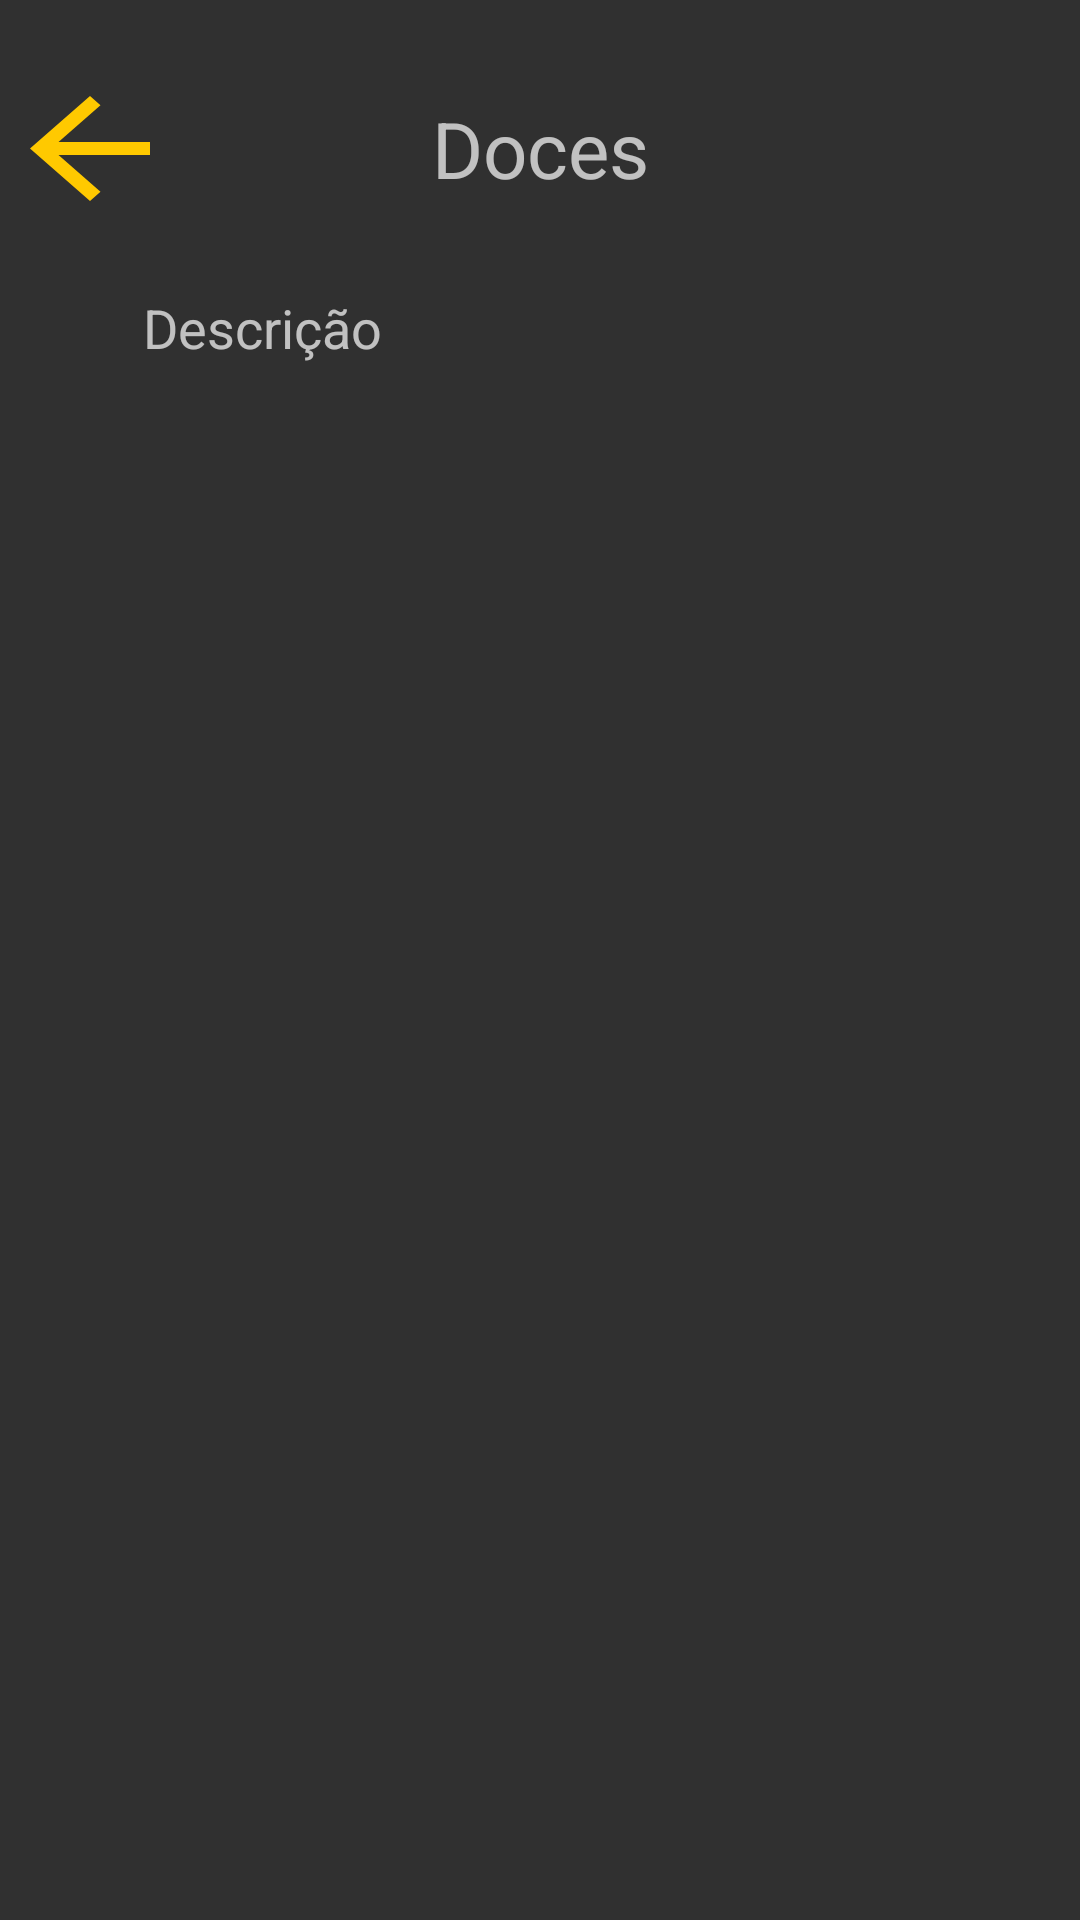

Point at icon controls on the screen. Image size 1080*1920, points as (x,y).
go back left arrow: (90,148)
